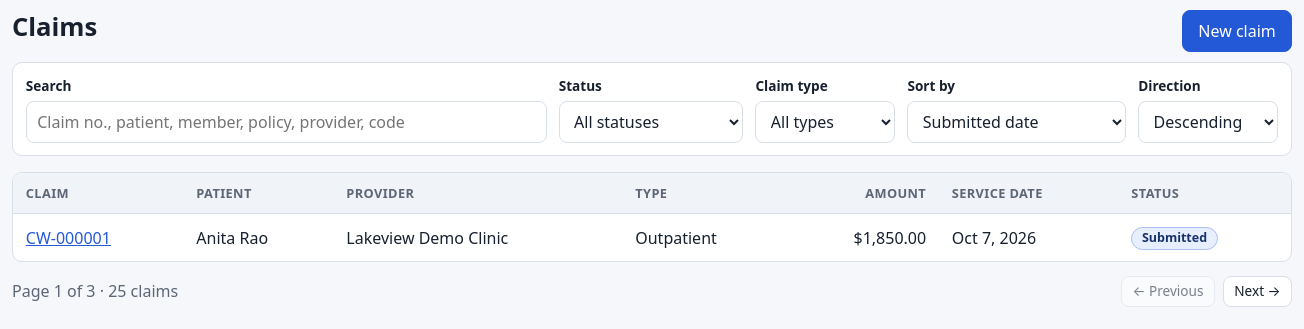
Test: ClaimsPage › pages forward and back using the server totals
Expected: the text "Page 1 of 3 · 25 claims" is shown, [12,279,178,303]
Expected: the button "← Previous" is disabled, [1121,276,1215,307]
Click the button "Next →". click: [1257, 291]
box: [1223,276,1292,307]
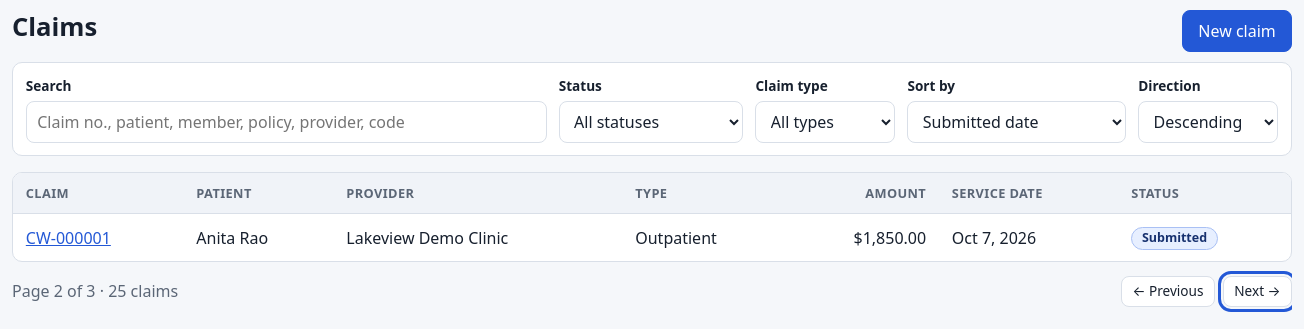
Now the text "Page 2 of 3 · 25 claims" is shown, box [12,279,178,303]
